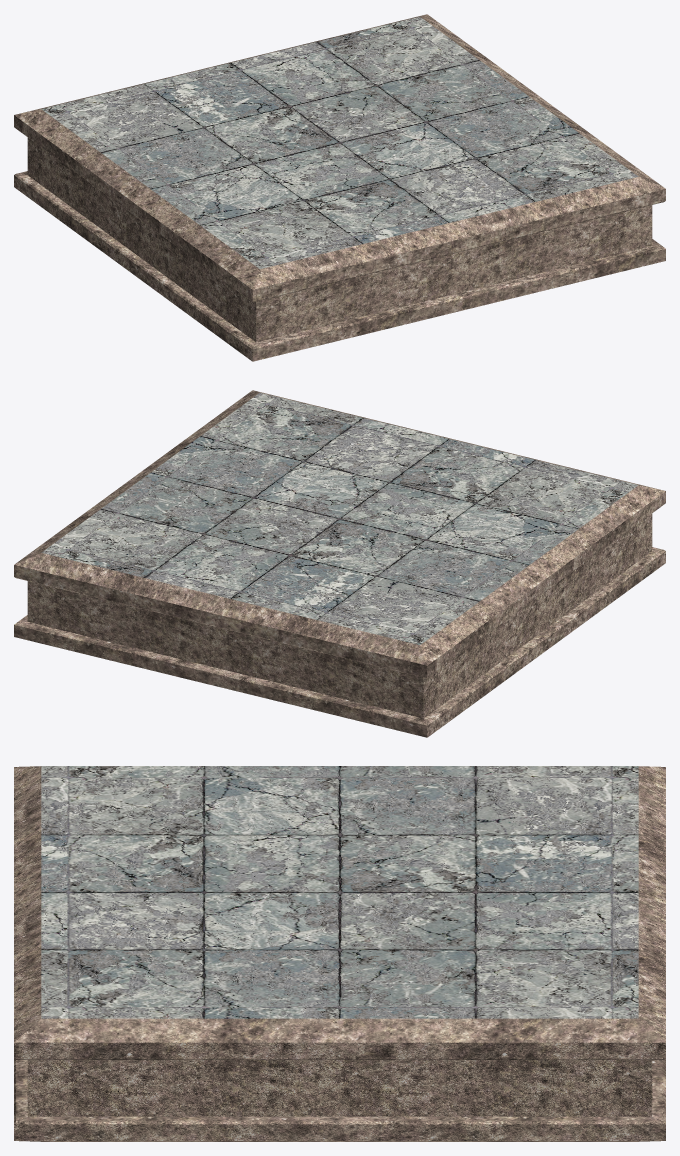
Rendered from Säule_Eckig_4x1.gltf.
3 renders of one model, top to bottom at view 1: azimuth 30°, elevation 25°; view 2: azimuth 150°, elevation 25°; view 3: azimuth 270°, elevation 25°, orthographic. The views are drawn at different scales.
Parts seen in each view (by area): view 1: Säule_Eckig_4x1; view 2: Säule_Eckig_4x1; view 3: Säule_Eckig_4x1.
Boxes of the visible parts, <box> form: Säule_Eckig_4x1: <box>14,14,665,361</box>; Säule_Eckig_4x1: <box>14,390,665,737</box>; Säule_Eckig_4x1: <box>14,766,665,1141</box>.
Bounding box in the file's own units: 4.8 × 1 × 4.8.
2 materials, 2 textured.
